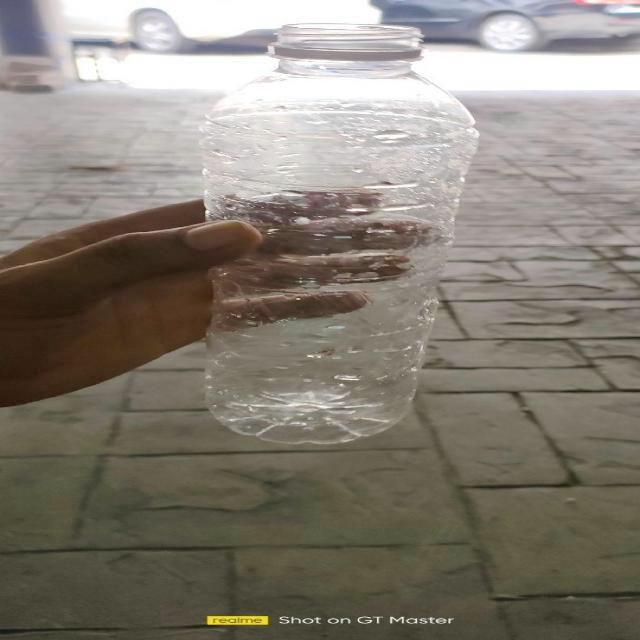bottle: (196, 24, 481, 445)
